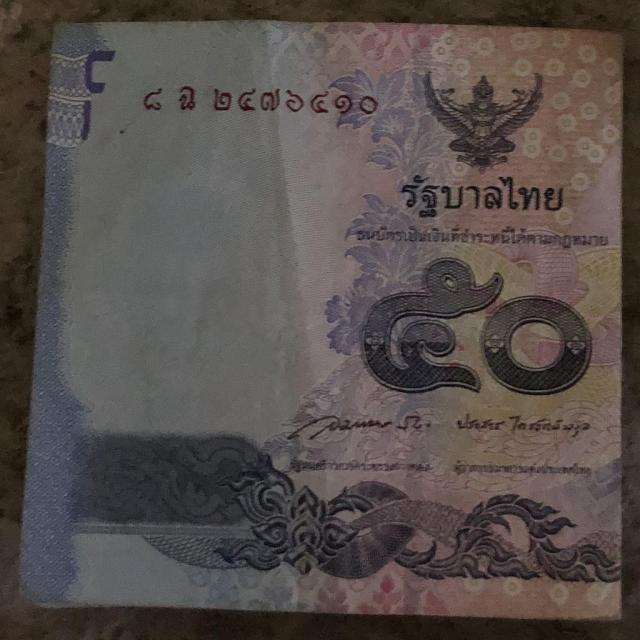THAI50: (19, 21, 624, 622)
